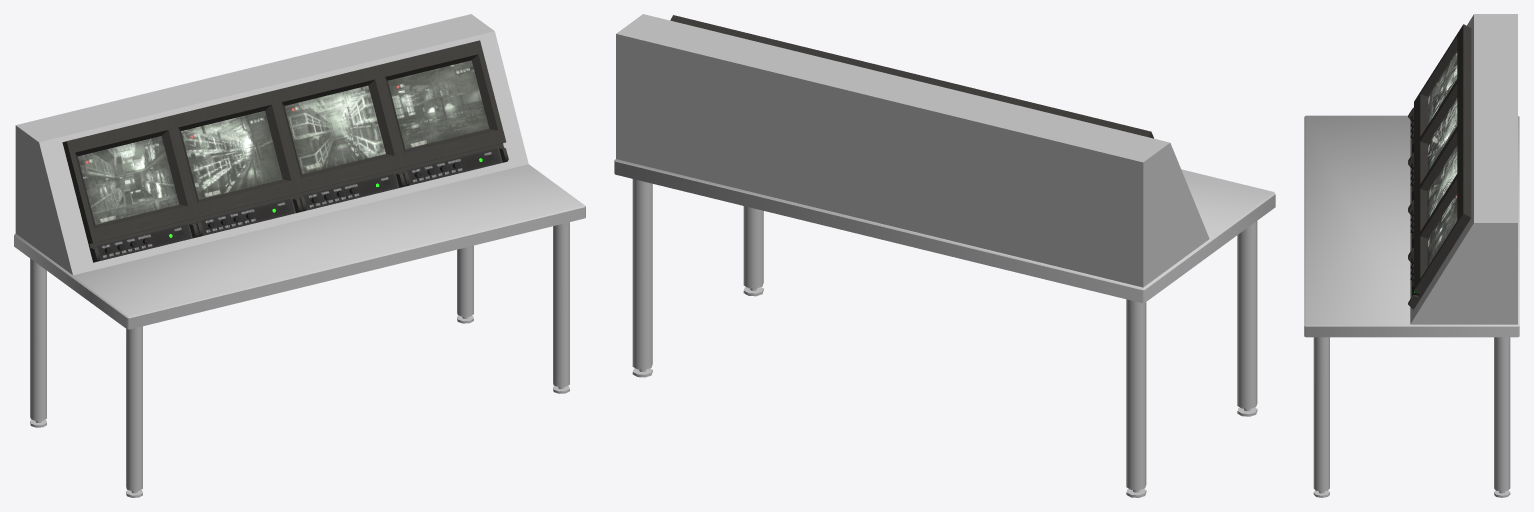
Rendered from SM_Table_CCTV.fbx.
3 views of the same model, side by side, from view 1: azimuth 30°, elevation 25°; view 2: azimuth 150°, elevation 25°; view 3: azimuth 270°, elevation 25° (orthographic). The views are drawn at different scales.
Visible parts, largest first — view 1: SM_Table_CCTV_LOD0; view 2: SM_Table_CCTV_LOD0; view 3: SM_Table_CCTV_LOD0.
Boxes of the visible parts, x1,y1,x2,y2 form: SM_Table_CCTV_LOD0: (14, 14, 585, 497); SM_Table_CCTV_LOD0: (614, 14, 1275, 497); SM_Table_CCTV_LOD0: (1304, 14, 1519, 497).
Size of the model in its own units: 192 by 83.2 by 118.
